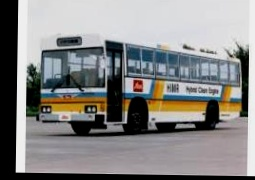bus: (38, 34, 243, 139)
